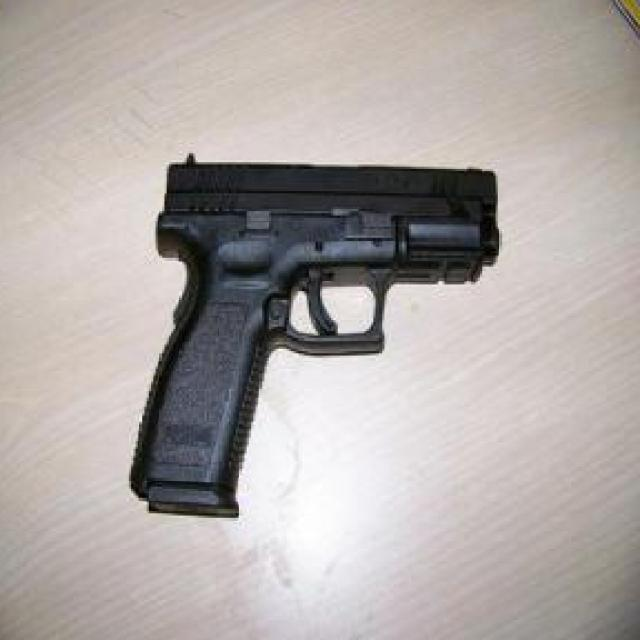pistol: (128, 155, 504, 526)
